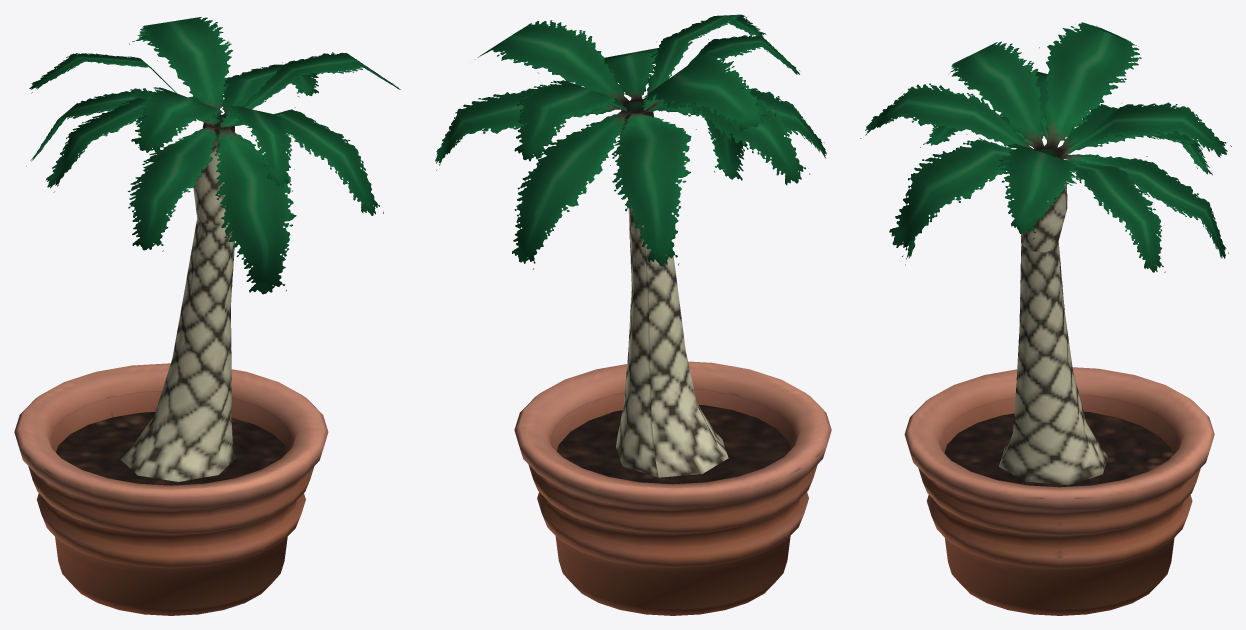
The model's file is spalm.fbx.
3 renders of one model, left to right at view 1: azimuth 30°, elevation 25°; view 2: azimuth 150°, elevation 25°; view 3: azimuth 270°, elevation 25°, orthographic. The views are drawn at different scales.
Visible parts, largest first — view 1: potted_palm_tree, potted_palm_pot, potted_palm_dirt; view 2: potted_palm_tree, potted_palm_pot, potted_palm_dirt; view 3: potted_palm_tree, potted_palm_pot, potted_palm_dirt.
Boxes of the visible parts, x1,y1,x2,y2 form: potted_palm_tree: (26, 17, 400, 481); potted_palm_pot: (14, 363, 328, 615); potted_palm_dirt: (56, 412, 287, 485); potted_palm_tree: (435, 14, 826, 477); potted_palm_pot: (514, 361, 831, 615); potted_palm_dirt: (557, 405, 790, 484); potted_palm_tree: (860, 22, 1231, 485); potted_palm_pot: (904, 367, 1214, 615); potted_palm_dirt: (944, 411, 1172, 487).
Size of the model in its own units: 212 by 310 by 197.
